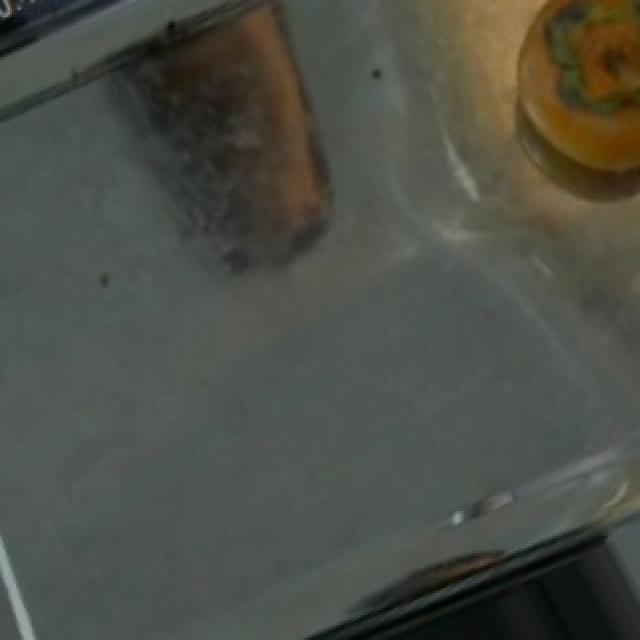Fruit: (488, 2, 640, 216)
